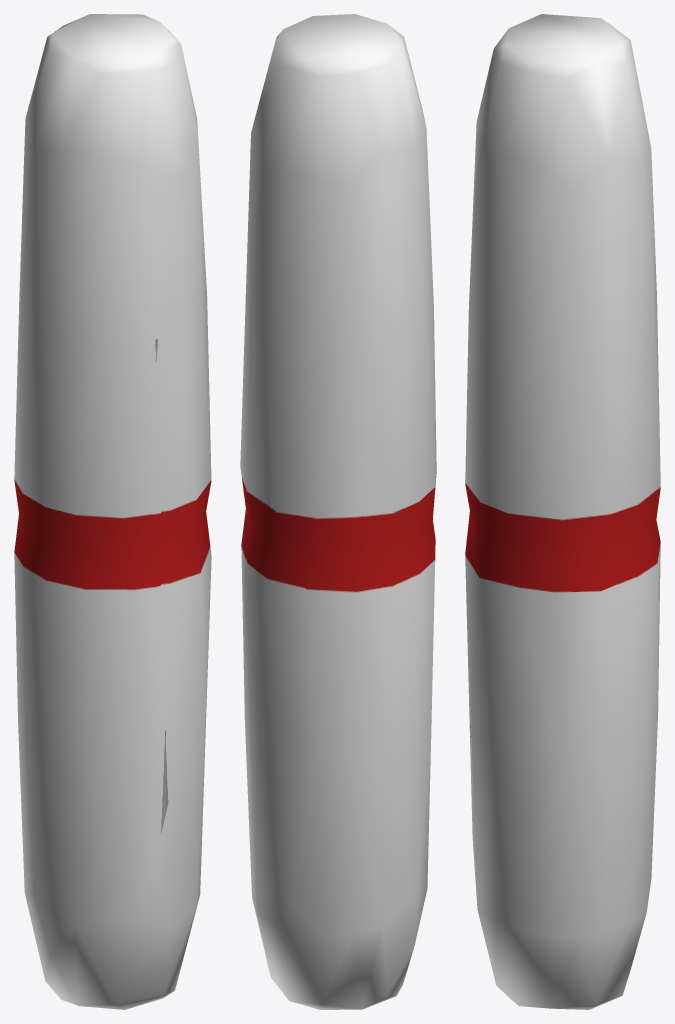
Rendered from candlepin_low.fbx.
The picture shows the model from 3 angles, left to right: view 1: azimuth 30°, elevation 25°; view 2: azimuth 150°, elevation 25°; view 3: azimuth 270°, elevation 25°; orthographic projection.
Parts seen in each view (by area): view 1: pin_lowpoly; view 2: pin_lowpoly; view 3: pin_lowpoly.
Part boxes in pixels (bbox=[...]): pin_lowpoly: bbox=[14, 14, 211, 1009]; pin_lowpoly: bbox=[240, 14, 436, 1009]; pin_lowpoly: bbox=[465, 14, 660, 1009].
Size of the model in its own units: 7.55 by 40 by 7.48.
